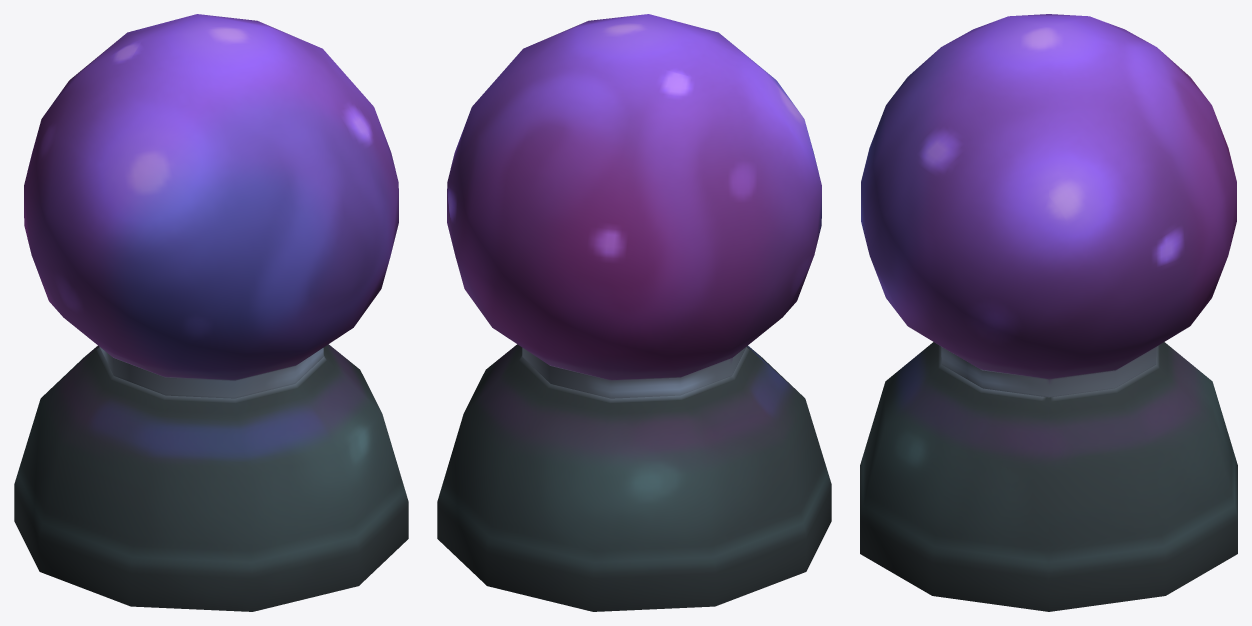
Rendered from crystal_ball.fbx.
The picture shows the model from 3 angles, left to right: view 1: azimuth 30°, elevation 25°; view 2: azimuth 150°, elevation 25°; view 3: azimuth 270°, elevation 25°; orthographic projection.
Visible parts, largest first — view 1: Crystal_Ball; view 2: Crystal_Ball; view 3: Crystal_Ball.
Boxes of the visible parts, <box> form: Crystal_Ball: <box>14,14,408,611</box>; Crystal_Ball: <box>437,14,831,611</box>; Crystal_Ball: <box>860,14,1237,611</box>.
Size of the model in its own units: 32.51 by 45.13 by 30.92.
